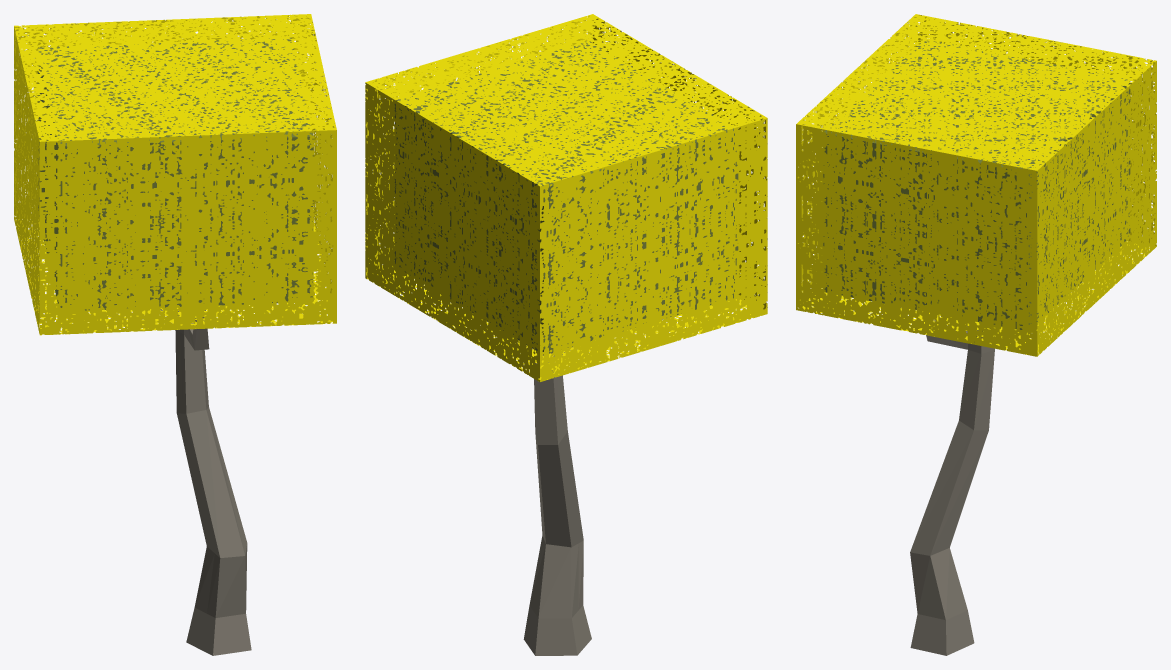
Rendered from tree_01.fbx.
The picture shows the model from 3 angles, left to right: view 1: azimuth 30°, elevation 25°; view 2: azimuth 150°, elevation 25°; view 3: azimuth 270°, elevation 25°; orthographic projection. The views are drawn at different scales.
Visible parts, largest first — view 1: tree_01; view 2: tree_01; view 3: tree_01.
Boxes of the visible parts, bbox=[...] form: tree_01: bbox=[14, 14, 336, 655]; tree_01: bbox=[365, 14, 767, 655]; tree_01: bbox=[796, 14, 1156, 655].
Size of the model in its own units: 136 by 217 by 132.
